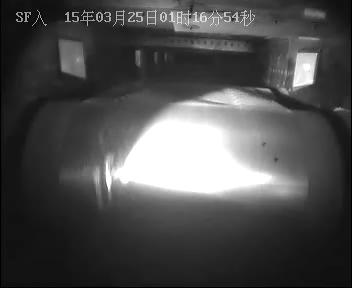wrinkled steel: (84, 129, 126, 215), (221, 85, 257, 108)
